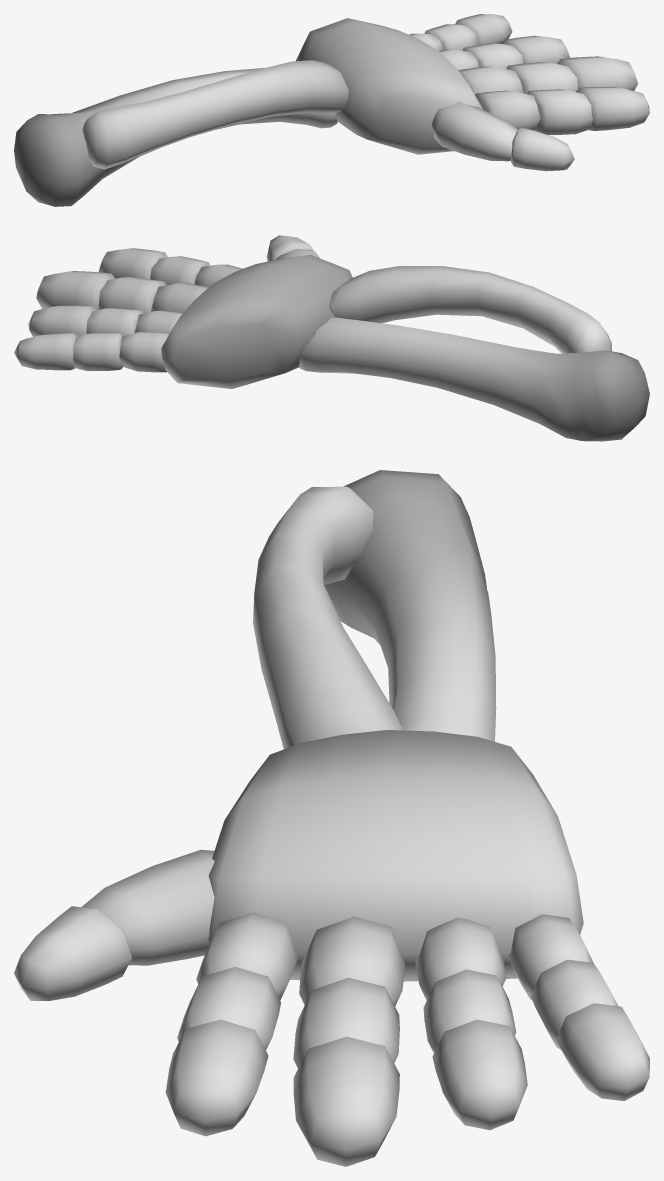
File: kol.fbx
3 renders of one model, top to bottom at view 1: azimuth 30°, elevation 25°; view 2: azimuth 150°, elevation 25°; view 3: azimuth 270°, elevation 25°, orthographic. The views are drawn at different scales.
Parts seen in each view (by area): view 1: Skeleton_.006; view 2: Skeleton_.006; view 3: Skeleton_.006.
Boxes of the visible parts, x1=… form: Skeleton_.006: x1=14, y1=14, x2=649, y2=206; Skeleton_.006: x1=14, y1=235, x2=649, y2=441; Skeleton_.006: x1=14, y1=470, x2=649, y2=1166.
Size of the model in its own units: 42.61 by 8.44 by 21.07.
